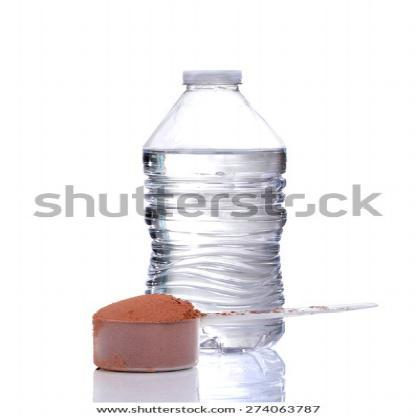bottle: (0, 0, 97, 150)
